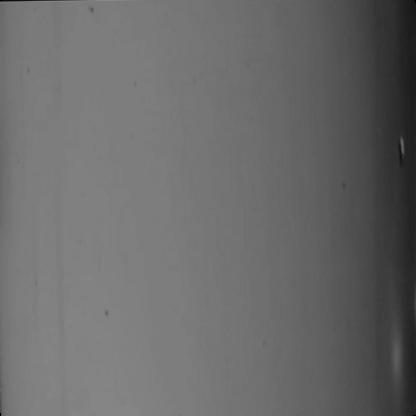kongdong: (390, 130, 416, 178)
